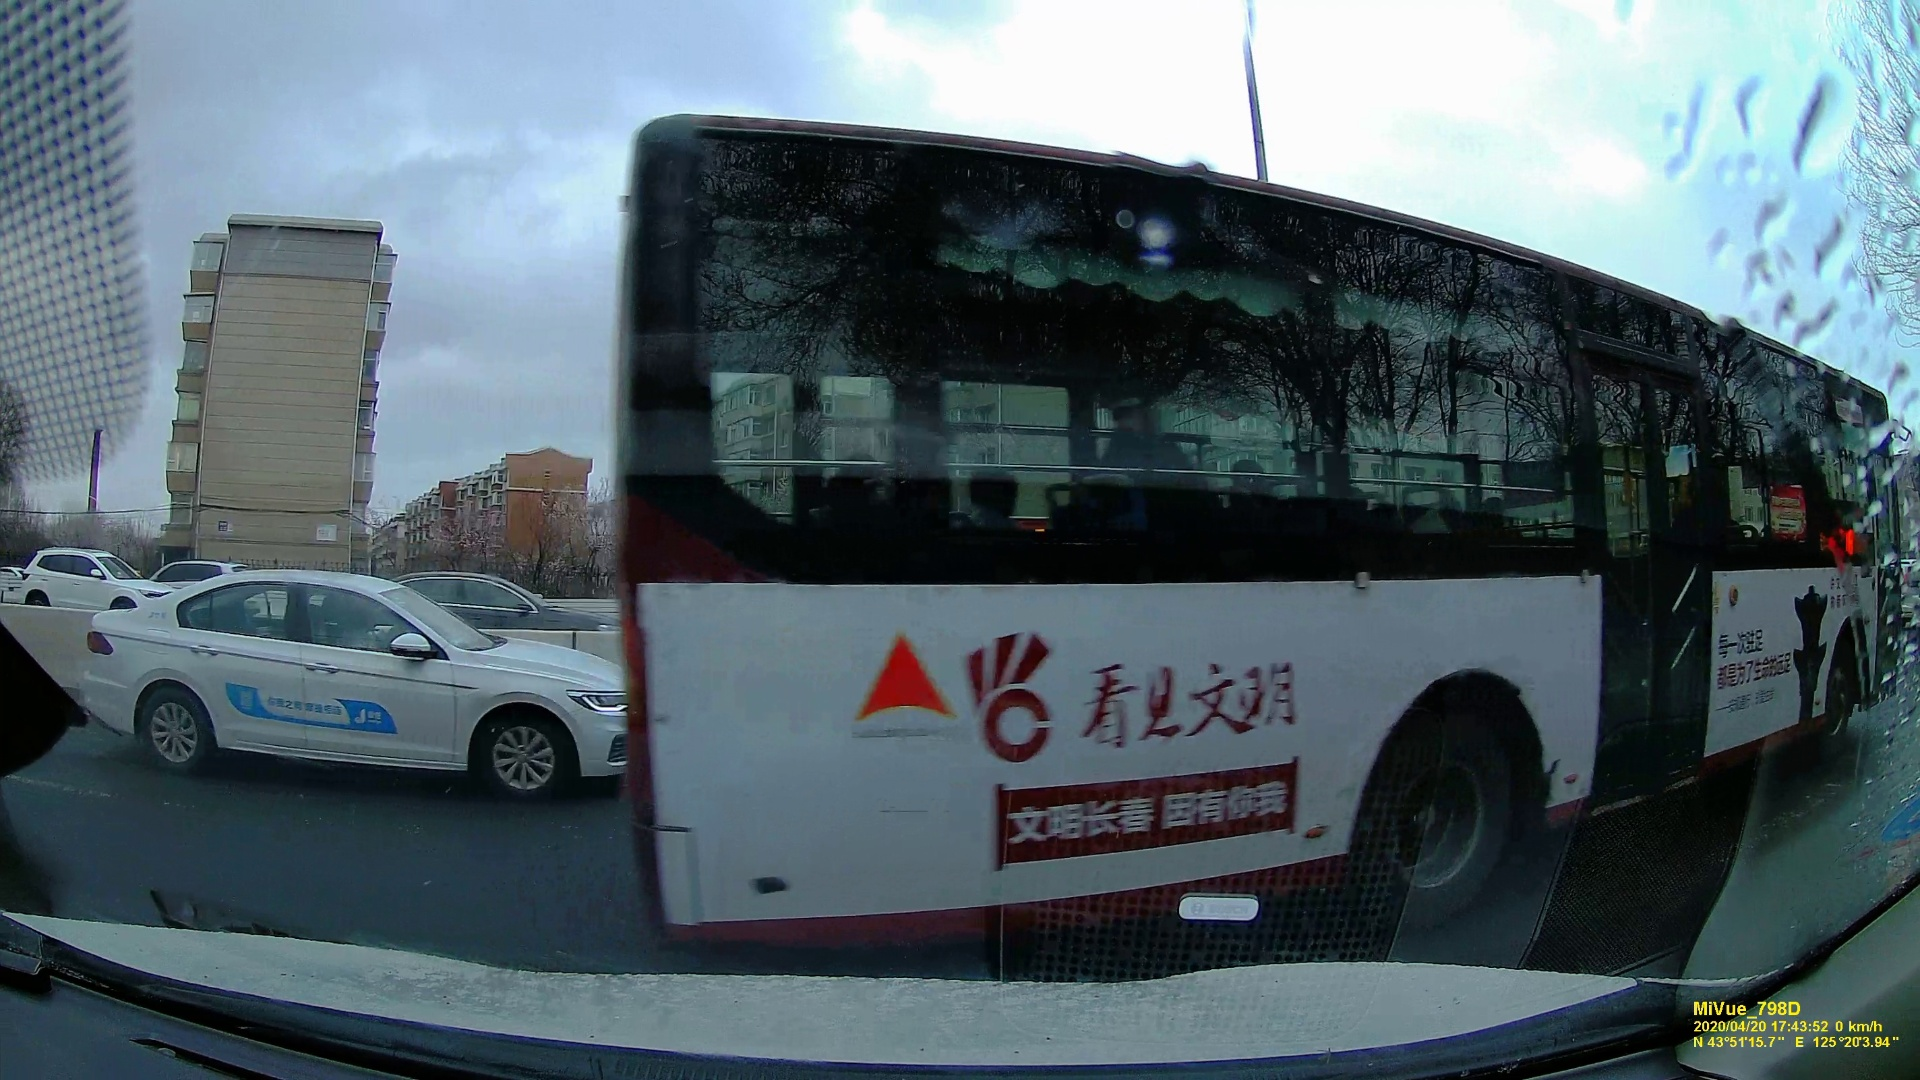bus: (626, 141, 1909, 919)
vehicle: (82, 574, 624, 795), (1, 547, 154, 615)
